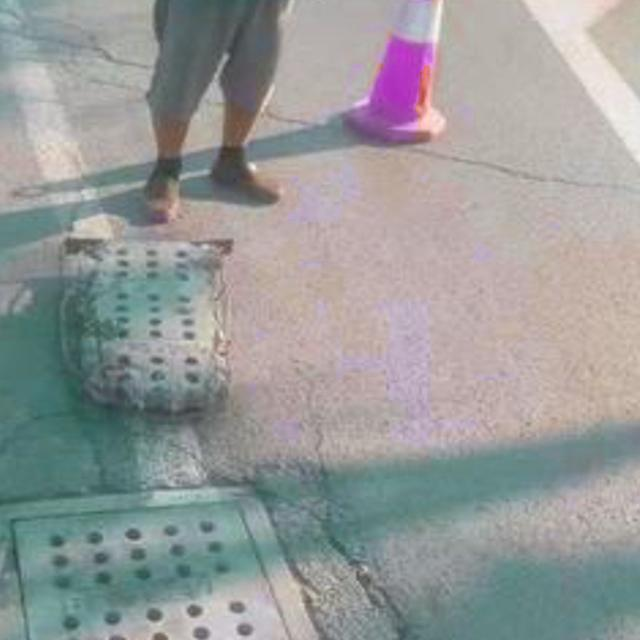circle: (0, 434, 515, 640)
